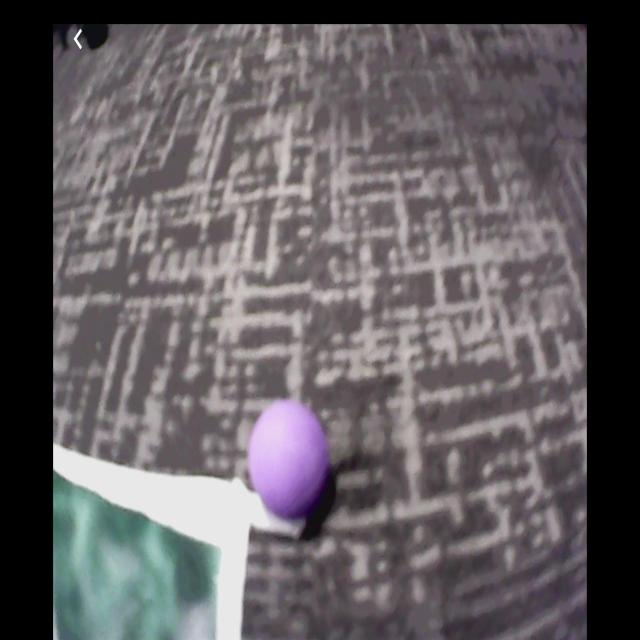ball: (248, 398, 332, 522)
